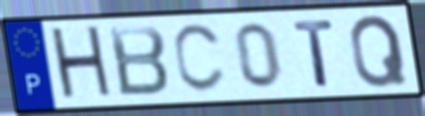0: (233, 19, 287, 92)
B: (106, 23, 172, 99)
C: (170, 21, 228, 96)
H: (47, 23, 117, 105)
Q: (348, 12, 411, 90)
T: (290, 17, 337, 89)
